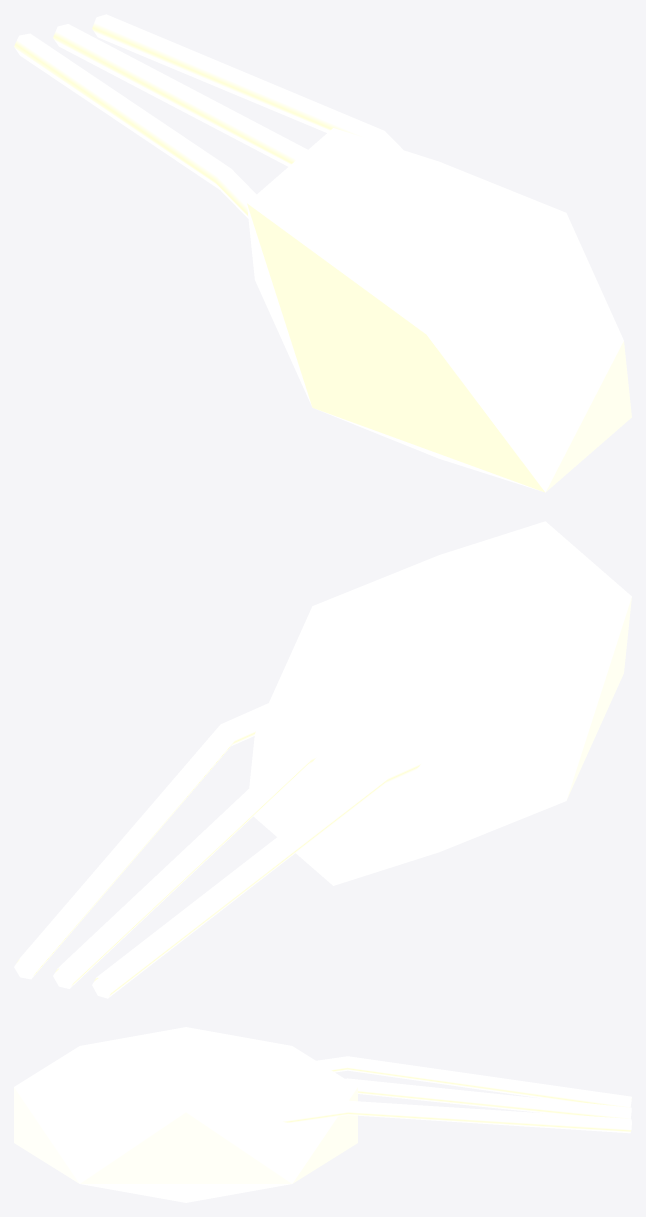
File: projectile.nature.glb
The picture shows the model from 3 angles, top to bottom: view 1: azimuth 30°, elevation 25°; view 2: azimuth 150°, elevation 25°; view 3: azimuth 270°, elevation 25°; orthographic projection. The views are drawn at different scales.
Visible parts, largest first — view 1: projectile.nature.Icosphere.001; view 2: projectile.nature.Icosphere.001; view 3: projectile.nature.Icosphere.001.
Boxes of the visible parts, x1,y1,x2,y2 form: projectile.nature.Icosphere.001: (14,14,631,492); projectile.nature.Icosphere.001: (14,521,631,998); projectile.nature.Icosphere.001: (14,1027,631,1202).
Size of the model in its own units: 0.4293 by 0.48 by 1.53.
